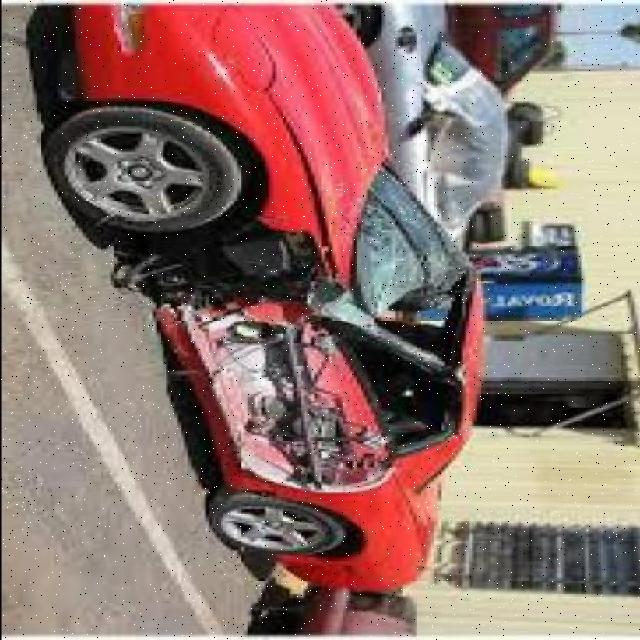damage: (128, 201, 468, 492)
